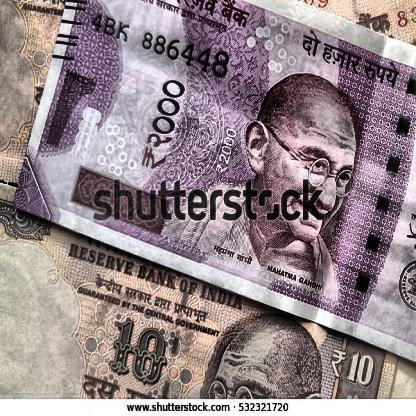Rs10: (91, 305, 188, 399), (318, 337, 389, 399)
